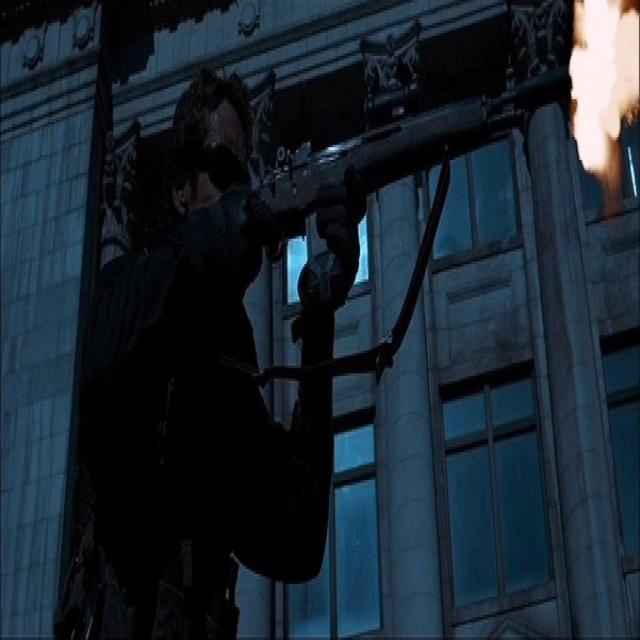rifle: (253, 55, 577, 260)
